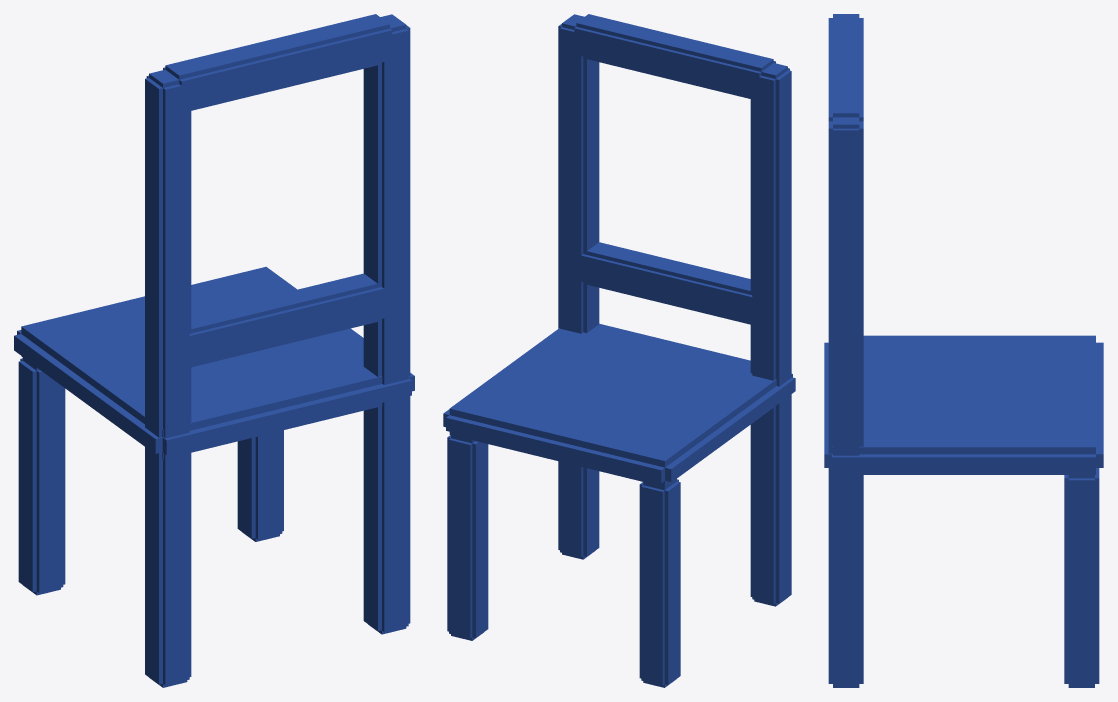
The model's file is mushroom_chair_v0.glb.
3 renders of one model, left to right at view 1: azimuth 30°, elevation 25°; view 2: azimuth 150°, elevation 25°; view 3: azimuth 270°, elevation 25°, orthographic. The views are drawn at different scales.
Visible parts, largest first — view 1: mushroom_chair_v0; view 2: mushroom_chair_v0; view 3: mushroom_chair_v0.
Part boxes in pixels (<box>): mushroom_chair_v0: <box>14,14,414,687</box>; mushroom_chair_v0: <box>443,14,795,687</box>; mushroom_chair_v0: <box>824,14,1103,687</box>.
Bounding box in the file's own units: 0.64 × 1.43 × 0.64.
